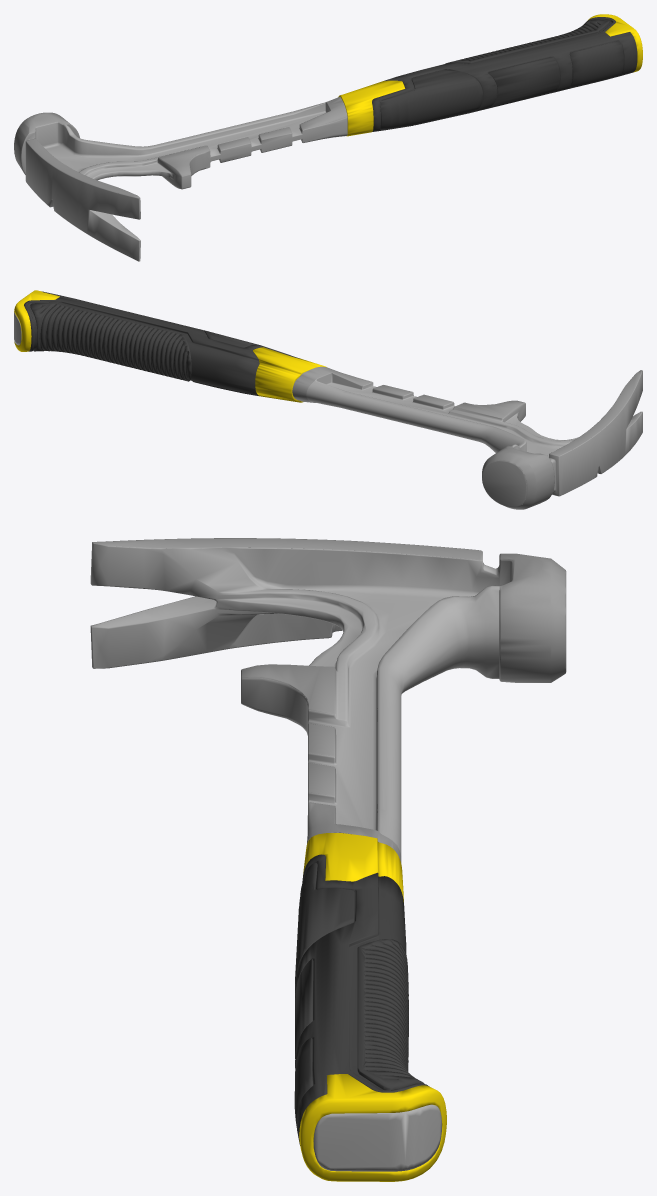
The model's file is Hammer.fbx.
3 renders of one model, top to bottom at view 1: azimuth 30°, elevation 25°; view 2: azimuth 150°, elevation 25°; view 3: azimuth 270°, elevation 25°, orthographic. The views are drawn at different scales.
Parts seen in each view (by area): view 1: object_2; view 2: object_2; view 3: object_2.
Part boxes in pixels (<box>): object_2: <box>14,14,642,261</box>; object_2: <box>14,290,642,509</box>; object_2: <box>90,538,566,1181</box>.
Size of the model in its own units: 326 by 34.14 by 117.
